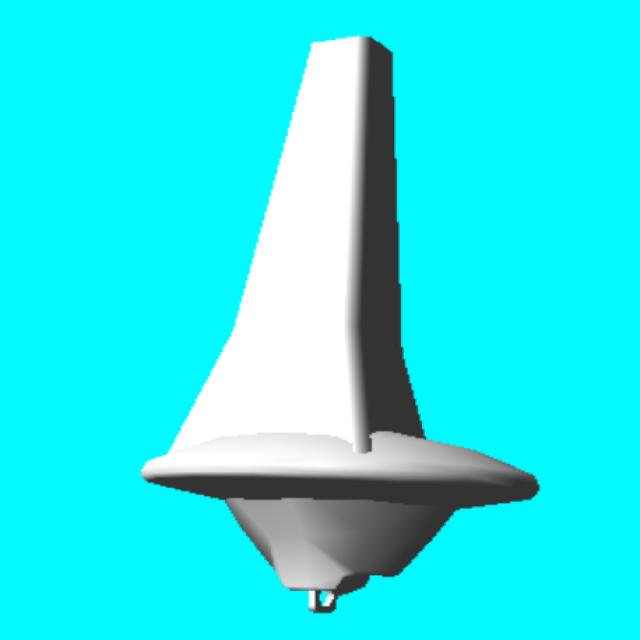WhiteBuoy: (142, 38, 538, 612)
